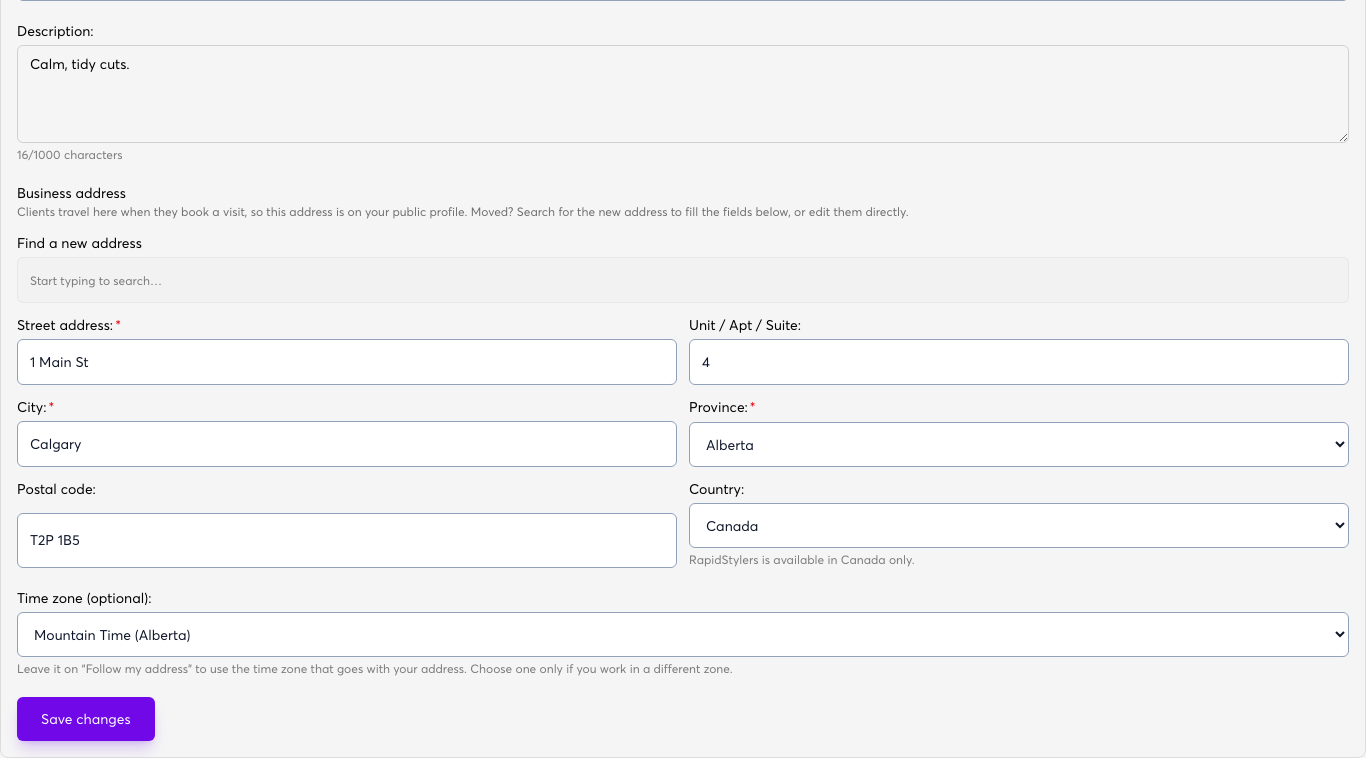
Test: rejects Postal code: 12345 before sending
The image size is (1366, 758).
(page scrolled)
Replace the text in the field labelled "Postal code:" with "12345". click: (347, 540)
box: [17, 512, 677, 568]
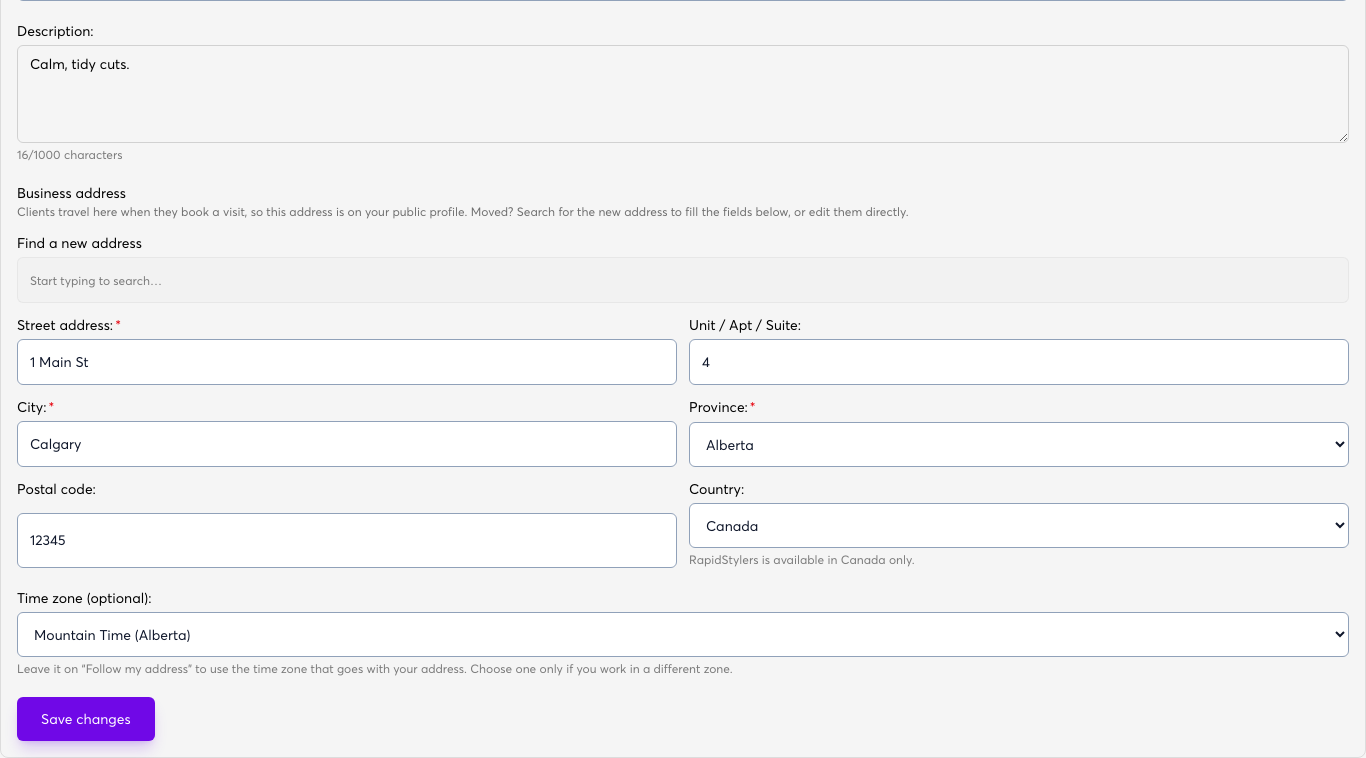
Click the button "Save changes". click: (86, 719)
box: [17, 697, 155, 741]
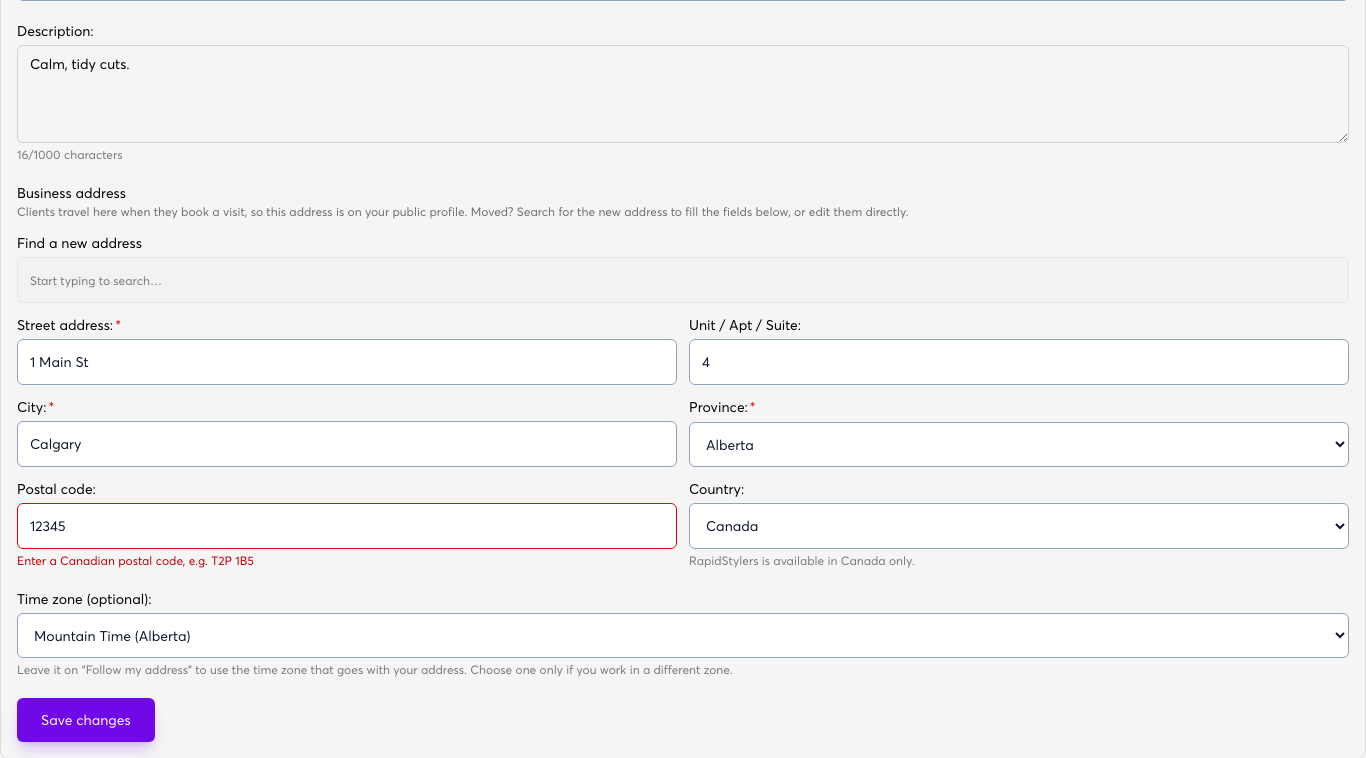
Expected: the text "Enter a Canadian postal code, e.g. T2P 1B5" is shown, [17, 553, 254, 568]
